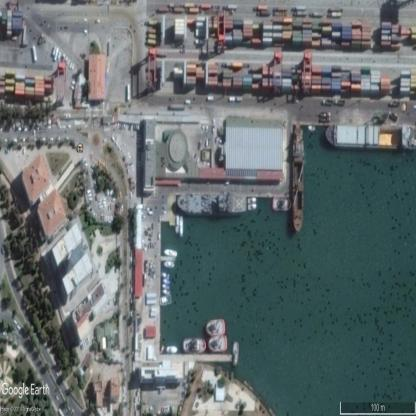ship: (325, 126, 416, 149), (292, 121, 304, 233), (182, 336, 206, 355), (207, 316, 224, 335), (209, 336, 228, 353), (270, 196, 290, 212), (233, 339, 239, 369), (166, 341, 178, 355), (159, 296, 171, 307), (164, 247, 178, 255), (246, 204, 258, 212), (164, 261, 176, 269), (180, 214, 184, 237), (247, 197, 257, 204)
